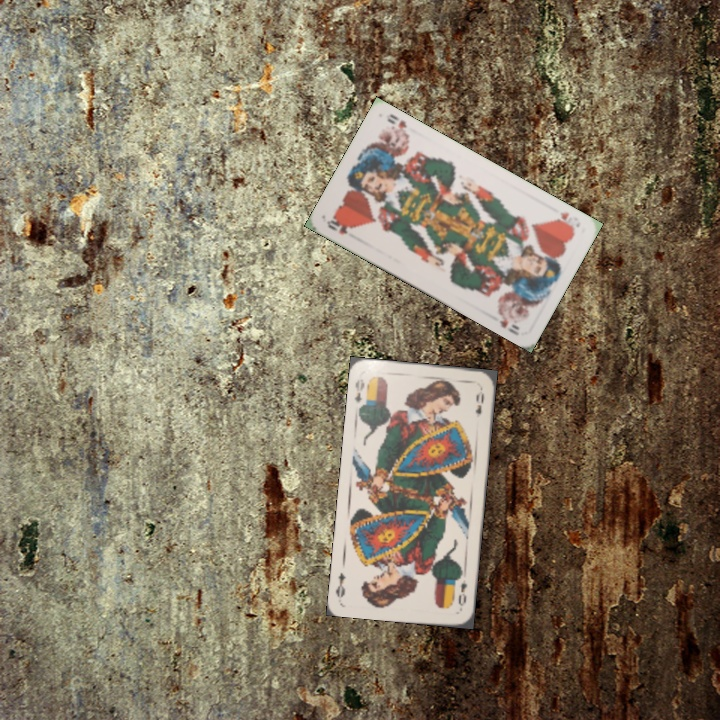EO: (454, 571, 470, 609), (351, 375, 367, 405)
HO: (550, 208, 577, 233), (323, 216, 355, 237)
